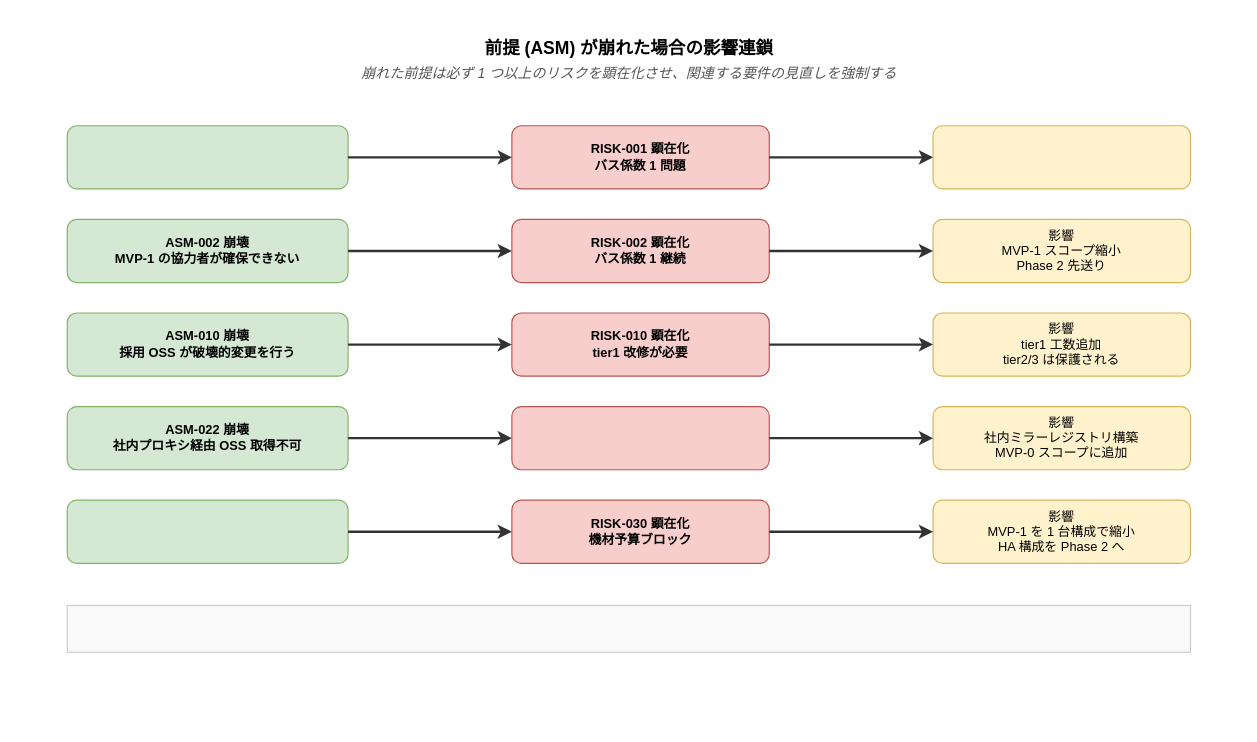
Some shapes in this 1257 by 742 pixel diagram are drawn without their labels. The shapes that lost their labels are listed below. From the top down, each one's centre as x and y in pixels, then its label:
the point at 207,157: ASM-001 崩壊 起案者が MVP-0 に専念できない
the point at 1061,157: 影響 MVP-0 期間延長 or スコープ縮小
the point at 640,437: RISK-043 顕在化 OSS 取得停止
the point at 207,531: ASM-031 崩壊 MVP-1 ハードウェア予算不承認
the point at 628,628: 緑=前提 (仮定) / 赤=崩れたときに発生するリスク / 黄=実際に取られる対処。前提 1 本ごとに必ずこの 3 点セットを想像する。
